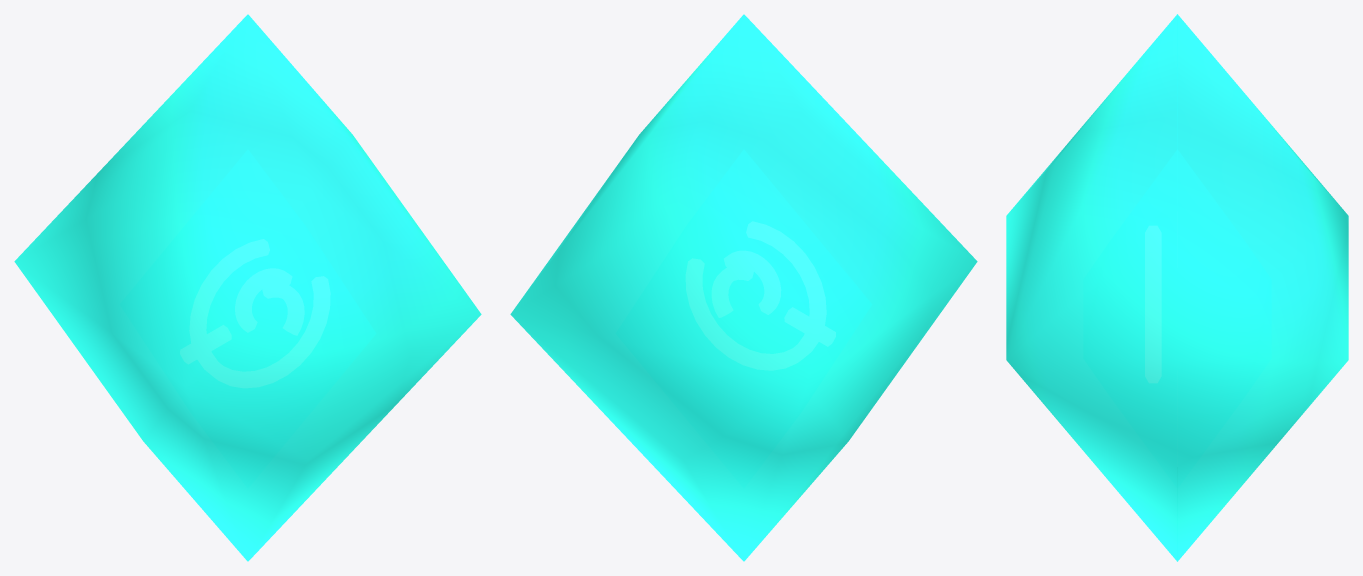
The model's file is shard_teal_octa.glb.
The picture shows the model from 3 angles, left to right: view 1: azimuth 30°, elevation 25°; view 2: azimuth 150°, elevation 25°; view 3: azimuth 270°, elevation 25°; orthographic projection.
Parts seen in each view (by area): view 1: shard_teal_octa; view 2: shard_teal_octa; view 3: shard_teal_octa.
Part boxes in pixels (<box>): shard_teal_octa: <box>14,14,481,561</box>; shard_teal_octa: <box>510,14,977,561</box>; shard_teal_octa: <box>1006,14,1348,561</box>.
Bounding box in the file's own units: 0.1697 × 0.3 × 0.1697.
